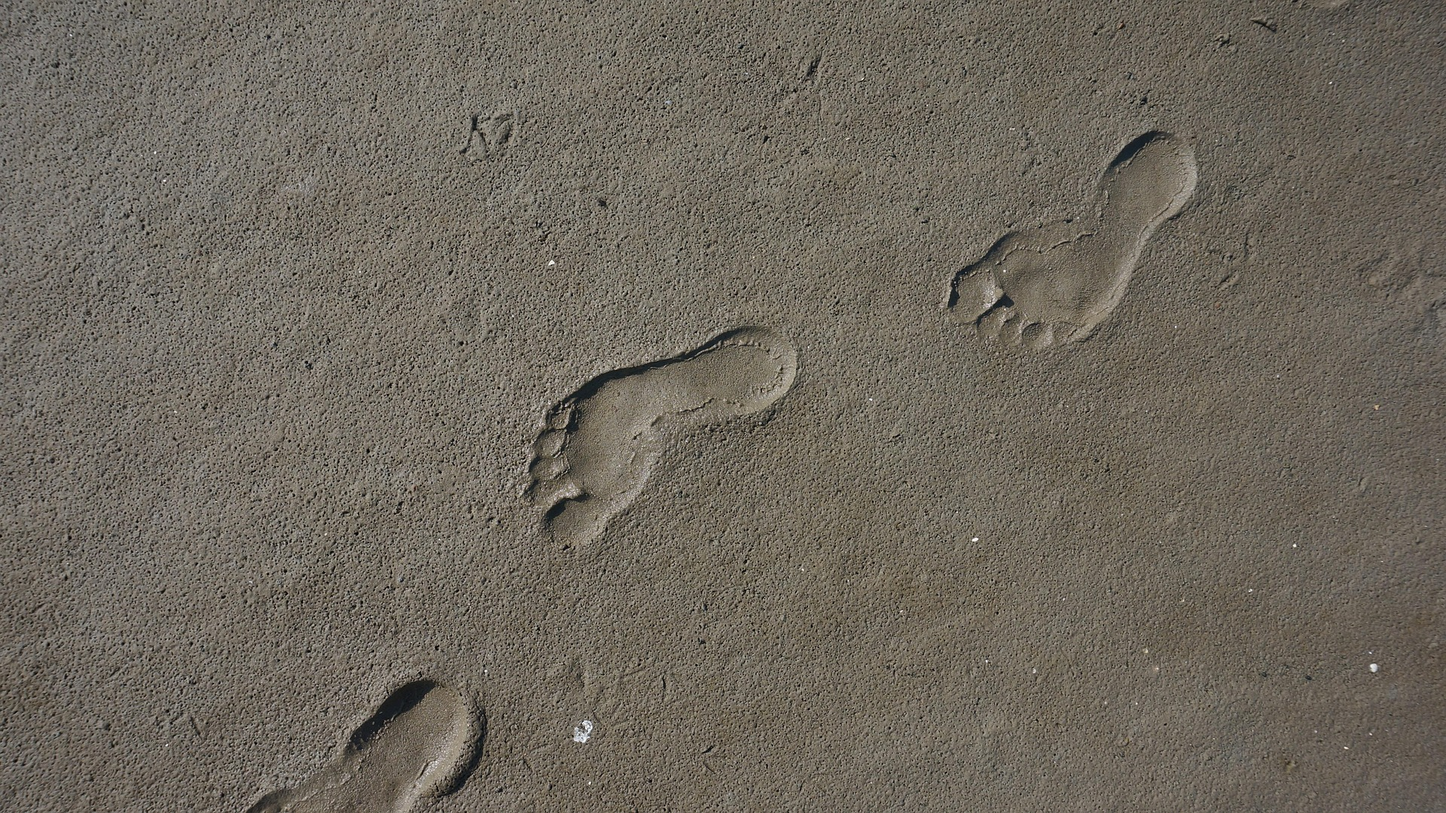human_footprint: (526, 326, 796, 546), (946, 131, 1197, 349), (248, 680, 483, 812)
